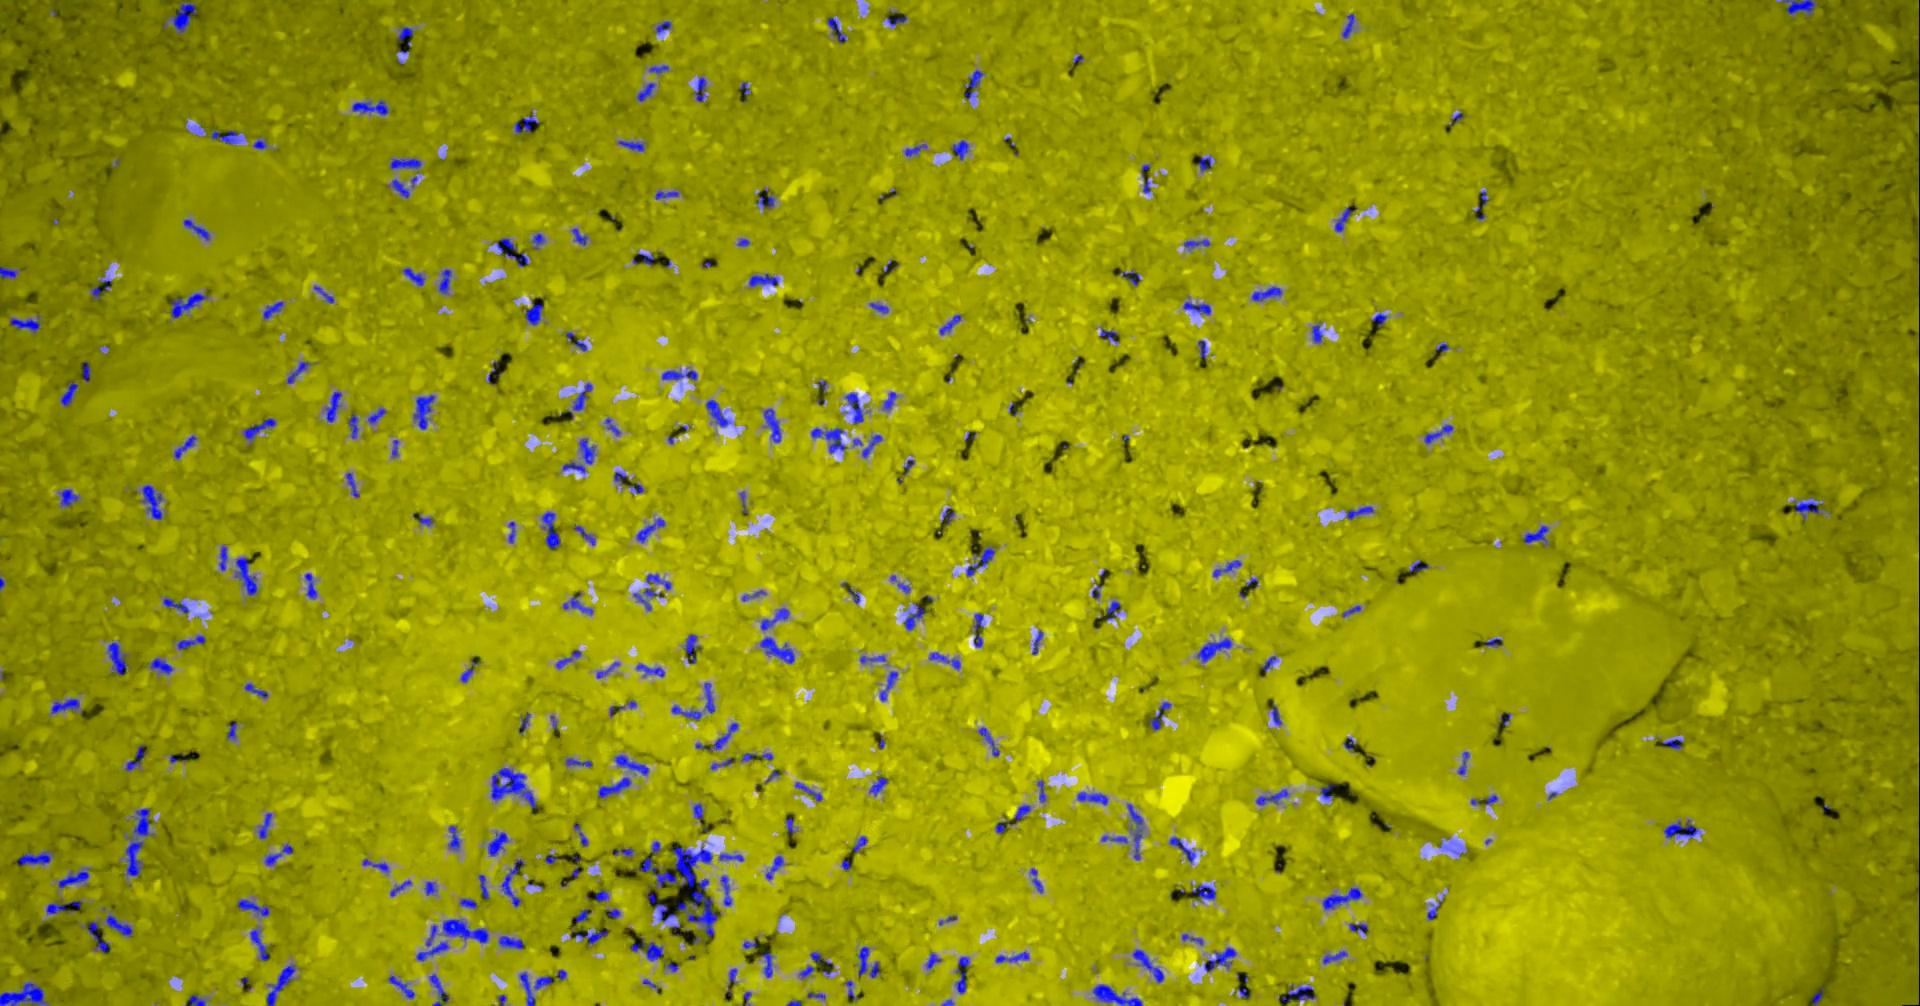ant: (127, 808, 156, 875), (491, 767, 538, 808), (697, 721, 739, 751), (640, 857, 679, 888), (268, 963, 296, 1005), (418, 923, 450, 960), (1, 981, 48, 1005), (564, 438, 597, 473), (521, 970, 554, 1005), (502, 857, 524, 906), (444, 918, 490, 942), (1134, 949, 1164, 982), (1095, 984, 1144, 1005), (811, 427, 848, 453), (171, 292, 210, 318), (761, 636, 796, 663), (1128, 803, 1144, 859), (1197, 636, 1233, 662), (649, 890, 678, 921), (171, 0, 199, 32), (498, 238, 530, 265), (1324, 887, 1363, 909), (570, 382, 593, 419), (236, 558, 259, 594), (968, 547, 996, 575), (88, 920, 112, 951), (632, 937, 665, 960), (245, 417, 277, 439), (1206, 948, 1238, 970), (415, 394, 436, 429), (143, 484, 164, 520), (1171, 836, 1197, 862), (637, 517, 665, 542), (543, 511, 563, 547), (635, 587, 665, 610), (616, 754, 650, 775), (858, 946, 881, 977), (1665, 819, 1700, 838), (109, 641, 130, 674), (565, 591, 594, 614), (707, 399, 731, 426), (389, 976, 417, 998), (265, 843, 295, 865), (599, 777, 632, 796), (58, 868, 91, 887), (764, 408, 782, 442), (1280, 984, 1317, 1001), (251, 929, 270, 960), (430, 973, 450, 1005), (762, 607, 790, 629), (1150, 701, 1172, 729), (107, 915, 135, 936), (980, 727, 1001, 756), (930, 652, 963, 669), (1257, 788, 1290, 805), (846, 392, 865, 423), (684, 633, 703, 663), (571, 929, 610, 944), (185, 218, 212, 240), (905, 603, 927, 630), (1796, 500, 1823, 521), (1782, 0, 1818, 15), (353, 100, 390, 116), (965, 69, 984, 98), (1425, 424, 1454, 443), (175, 434, 198, 459), (489, 831, 510, 856), (237, 899, 270, 916), (828, 17, 848, 43), (288, 361, 311, 384), (91, 274, 113, 298), (881, 671, 899, 700), (1336, 206, 1356, 231), (796, 781, 823, 800), (11, 315, 42, 332), (1214, 559, 1242, 577), (127, 746, 147, 770), (516, 113, 541, 132), (557, 649, 583, 668), (20, 850, 52, 865), (1524, 525, 1550, 542), (957, 956, 970, 993), (328, 391, 343, 422), (673, 704, 703, 719), (62, 381, 80, 406), (1253, 286, 1283, 301), (164, 597, 190, 614), (941, 314, 963, 334), (575, 525, 597, 545), (863, 434, 883, 457), (767, 855, 785, 879), (315, 285, 337, 304), (178, 635, 207, 649), (52, 699, 81, 713), (151, 657, 174, 674), (598, 661, 621, 678), (648, 573, 672, 589), (462, 658, 479, 682), (1192, 884, 1217, 901), (212, 130, 240, 144), (1476, 191, 1490, 218), (526, 304, 545, 324), (568, 332, 588, 351), (1078, 791, 1109, 804), (364, 857, 390, 873), (404, 267, 425, 285), (1349, 506, 1375, 520), (259, 812, 273, 838), (750, 273, 780, 286), (637, 83, 657, 102), (392, 178, 411, 197), (952, 138, 970, 159), (663, 370, 698, 380), (60, 488, 80, 506), (439, 268, 453, 293), (637, 663, 665, 676), (705, 682, 716, 713), (246, 682, 269, 697), (997, 951, 1031, 962), (1185, 301, 1211, 314), (265, 301, 284, 319), (871, 776, 889, 795), (347, 473, 361, 497), (575, 822, 589, 846), (975, 614, 985, 647), (391, 879, 411, 895), (1343, 13, 1356, 38), (696, 76, 709, 102), (391, 158, 423, 168), (618, 140, 646, 151), (500, 935, 524, 948), (1324, 950, 1349, 963), (306, 573, 317, 600), (723, 875, 733, 904), (573, 227, 589, 245), (1015, 804, 1032, 821), (905, 144, 928, 156), (763, 951, 775, 977), (1121, 271, 1142, 285), (1107, 600, 1121, 620), (1032, 630, 1044, 654), (450, 826, 461, 850), (1032, 868, 1044, 892), (1185, 239, 1211, 249), (884, 391, 899, 409), (370, 408, 387, 423), (606, 417, 621, 434), (1472, 794, 1498, 804), (1459, 751, 1470, 774), (349, 413, 359, 438), (480, 874, 490, 899), (47, 902, 67, 915), (1321, 782, 1336, 799), (927, 951, 942, 968), (1143, 164, 1152, 192), (637, 251, 655, 265), (855, 836, 869, 854), (1101, 329, 1120, 342), (861, 654, 888, 663), (568, 757, 594, 766), (414, 513, 434, 525), (1183, 934, 1204, 945), (399, 25, 415, 39), (1199, 155, 1213, 171), (577, 908, 593, 922), (1, 265, 19, 278), (220, 545, 229, 570), (1663, 738, 1685, 748), (657, 191, 681, 199), (1263, 655, 1277, 671), (888, 15, 908, 25), (521, 713, 531, 733), (187, 995, 207, 1005), (758, 196, 776, 207), (1313, 324, 1324, 342), (850, 586, 861, 603), (1039, 779, 1048, 801), (1813, 987, 1825, 1005), (657, 20, 672, 33), (533, 232, 546, 248), (871, 302, 890, 312), (1373, 312, 1388, 325), (1272, 705, 1283, 724), (1103, 835, 1129, 842), (720, 854, 745, 861), (1350, 923, 1369, 934), (943, 508, 955, 525), (800, 965, 817, 977), (650, 64, 670, 72), (83, 361, 91, 381), (695, 803, 703, 823), (615, 847, 635, 856), (425, 882, 438, 895), (461, 898, 477, 908), (596, 889, 610, 901), (1199, 340, 1208, 358), (229, 721, 237, 739), (1919, 132, 1920, 192)
